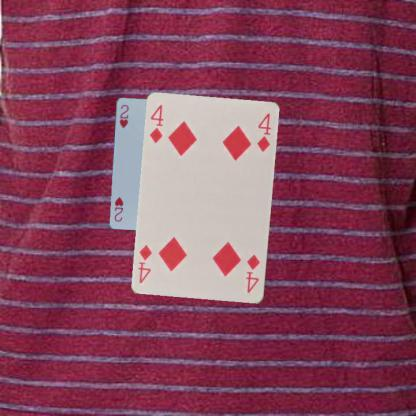2h: (117, 102, 129, 129)
4d: (147, 102, 165, 145), (243, 252, 261, 294)
